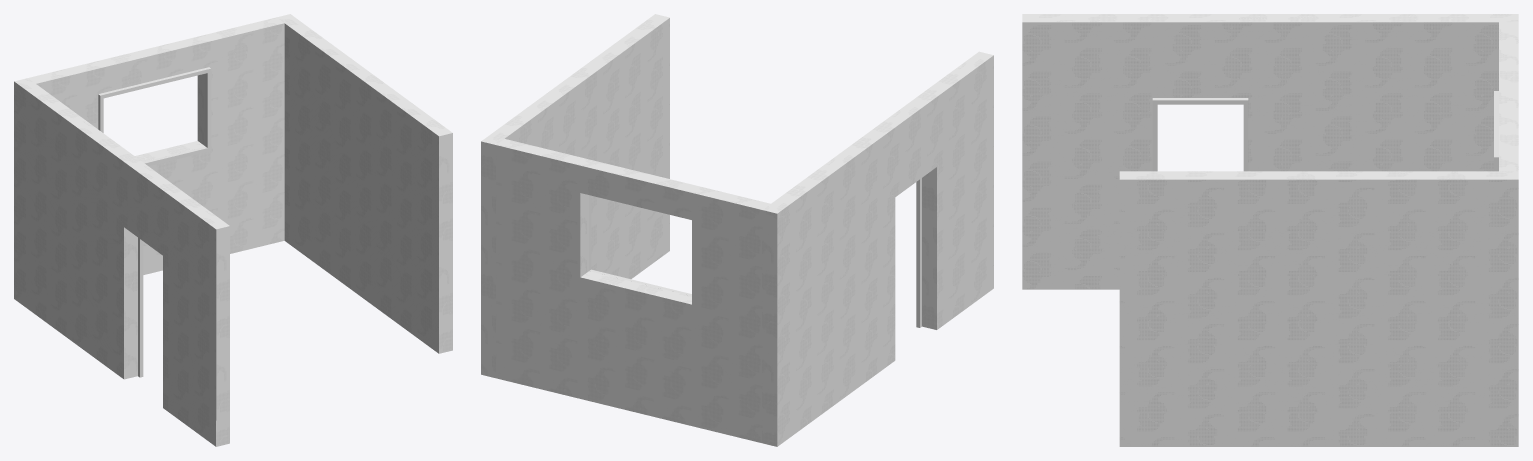
File: scene revue.fbx
3 renders of one model, left to right at view 1: azimuth 30°, elevation 25°; view 2: azimuth 150°, elevation 25°; view 3: azimuth 270°, elevation 25°, orthographic. The views are drawn at different scales.
Visible parts, largest first — view 1: Bureau_A043, Cadre_fenetre; view 2: Bureau_A043, Cadre_fenetre; view 3: Bureau_A043.
Boxes of the visible parts, left/top/right/bottom form: Bureau_A043: left=14, top=14, right=452, bottom=446; Cadre_fenetre: left=98, top=67, right=211, bottom=165; Bureau_A043: left=481, top=14, right=993, bottom=446; Cadre_fenetre: left=589, top=195, right=691, bottom=295; Bureau_A043: left=1022, top=14, right=1518, bottom=446.
Size of the model in its own units: 399 by 300 by 505.
2 materials, 1 textured.
